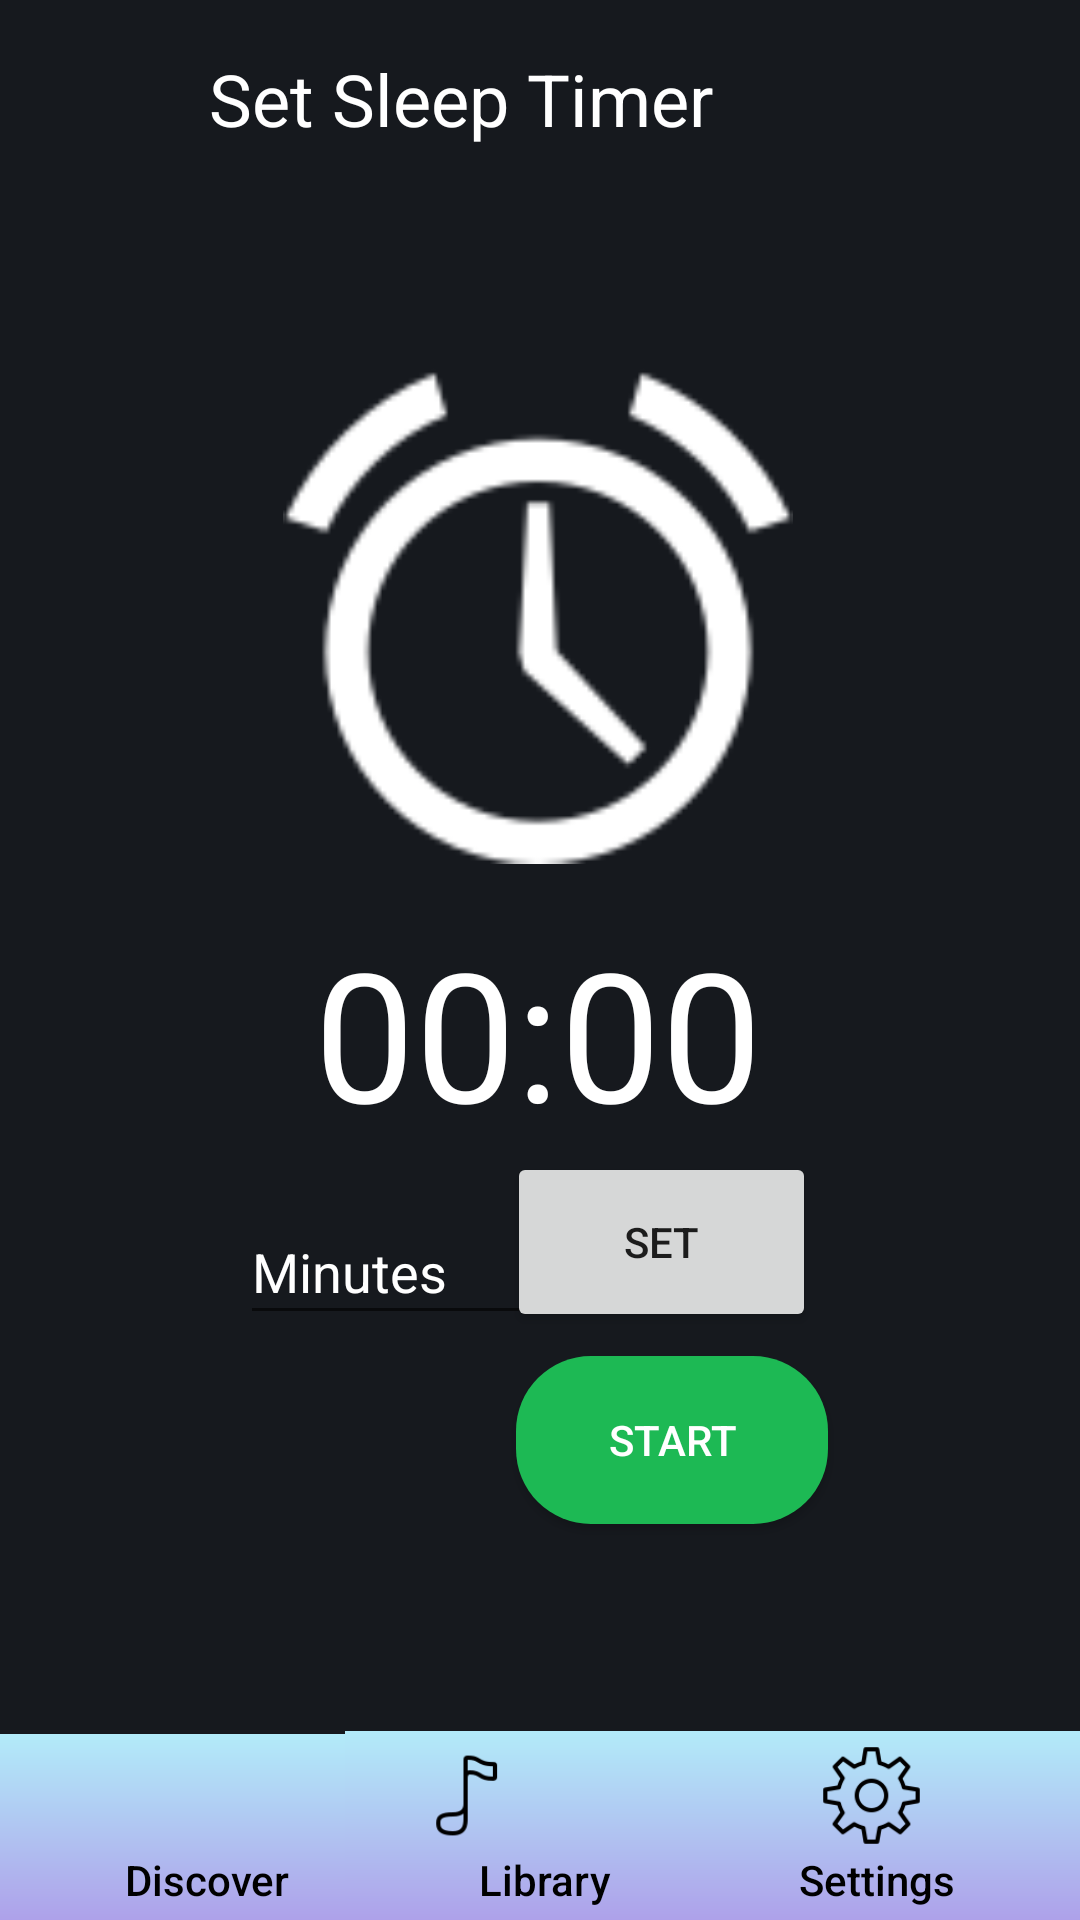

Where to tap for icons on this 1080 × 1920 app screen, as (x=x, y=y):
music: (x=463, y=1795)
